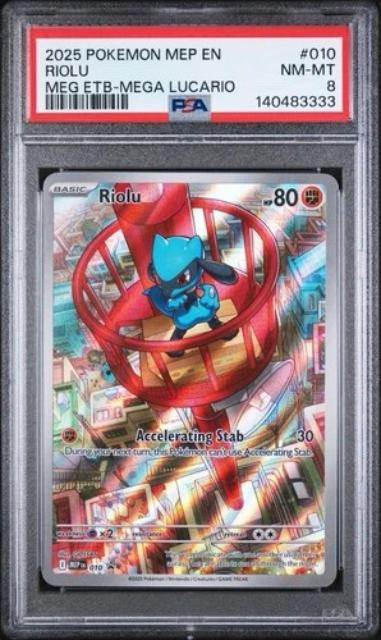Card: (37, 166, 343, 591)
Name: (91, 183, 143, 207)
